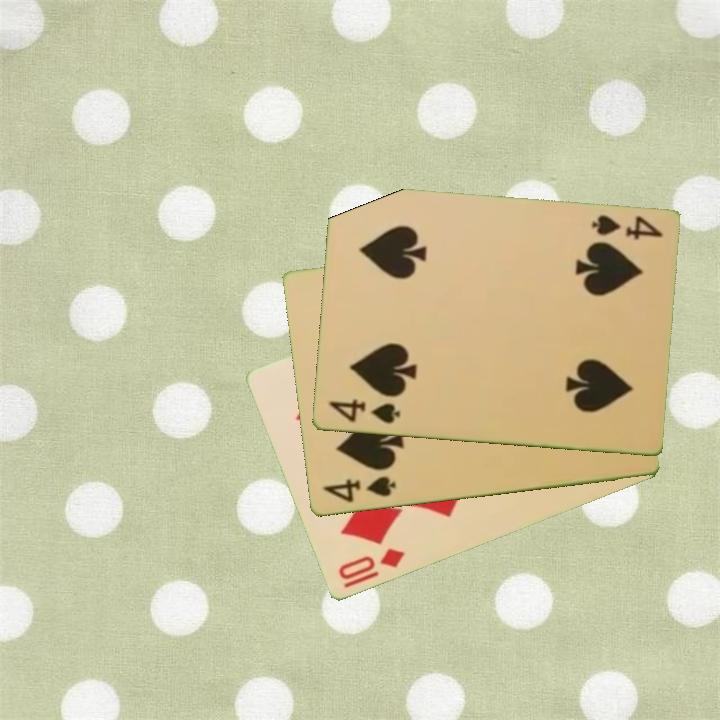10d: (334, 544, 408, 592)
4s: (318, 473, 398, 507), (325, 395, 403, 427), (587, 212, 665, 243)
